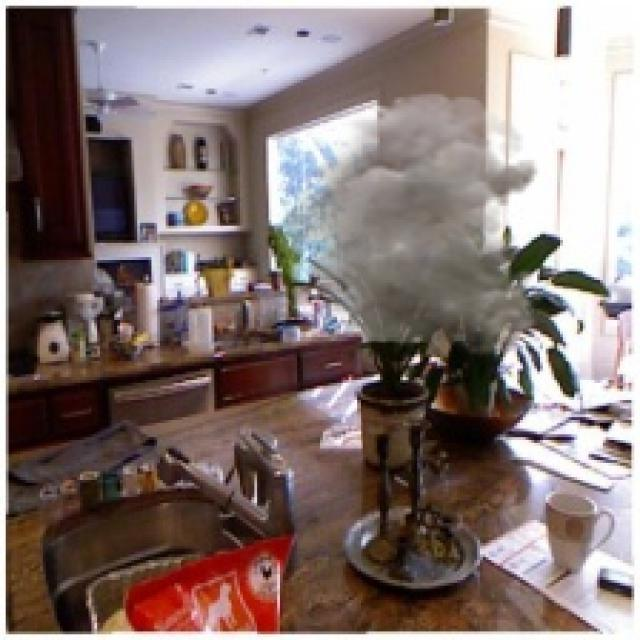Smoke: (277, 91, 546, 358)
